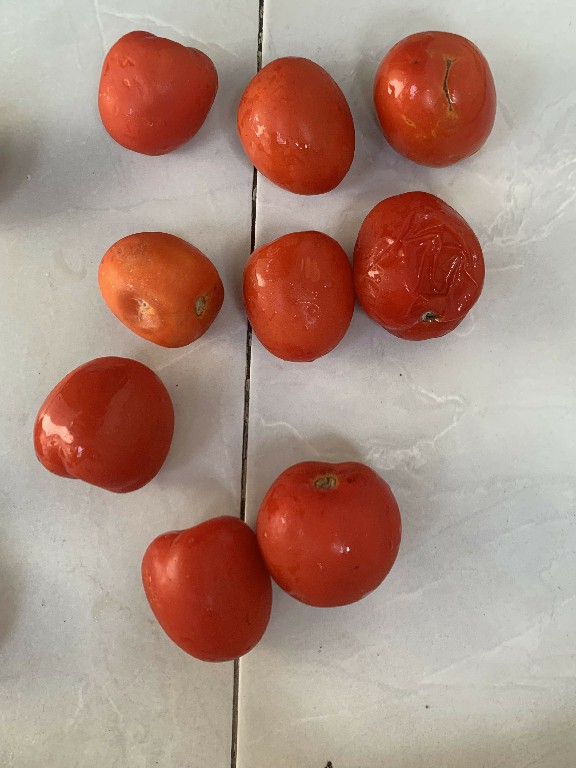NG: (355, 189, 483, 340), (369, 20, 501, 164), (97, 227, 228, 346)
OK: (255, 454, 405, 609), (129, 514, 278, 666), (28, 352, 172, 493), (234, 51, 358, 200), (91, 23, 219, 161), (238, 225, 353, 374)
